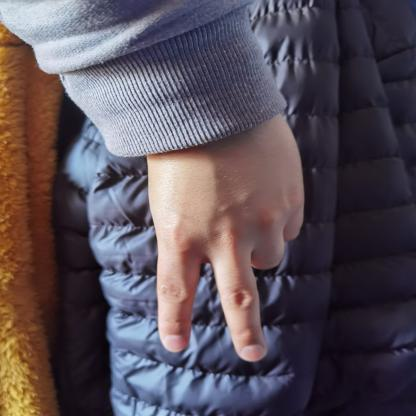N: (107, 97, 332, 368)
